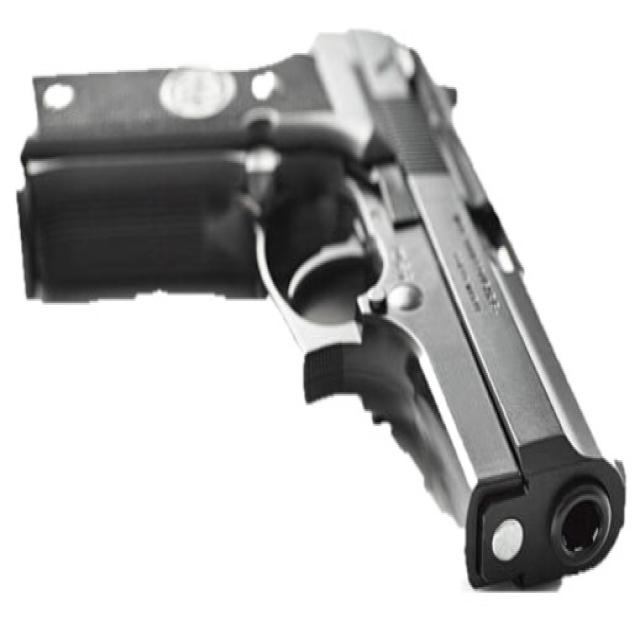pistol: (11, 27, 632, 609)
